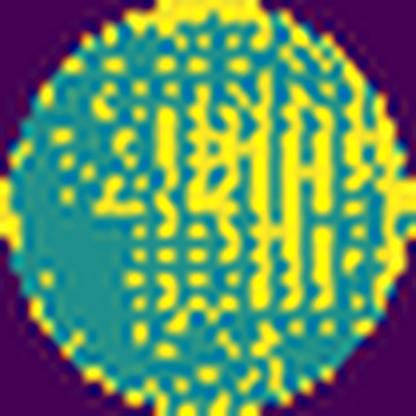Random: (85, 0, 416, 358)
